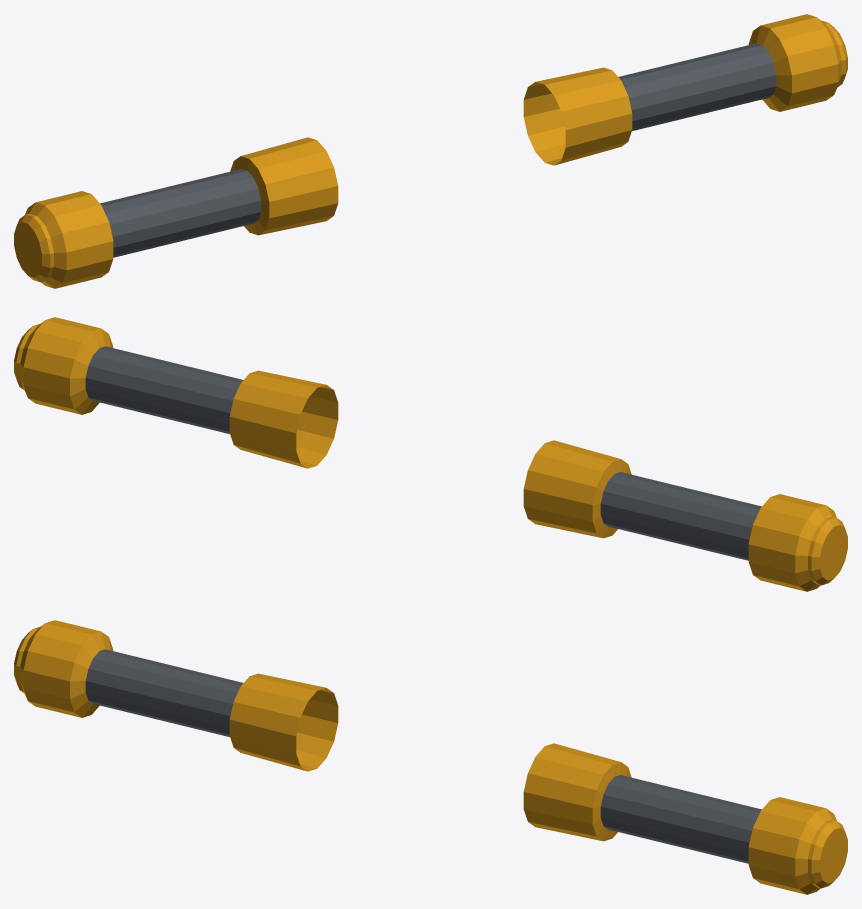
File: Personal_Vehicle_03_Footrest_Yellow.fbx
3 renders of one model, top to bottom at view 1: azimuth 30°, elevation 25°; view 2: azimuth 150°, elevation 25°; view 3: azimuth 330°, elevation 25°, orthographic.
Parts seen in each view (by area): view 1: Personal_Vehicle_03_Footrest_Yellow; view 2: Personal_Vehicle_03_Footrest_Yellow; view 3: Personal_Vehicle_03_Footrest_Yellow.
Boxes of the visible parts, box(x1,y1,x2,y2) form: Personal_Vehicle_03_Footrest_Yellow: box(14, 14, 847, 288); Personal_Vehicle_03_Footrest_Yellow: box(14, 317, 847, 591); Personal_Vehicle_03_Footrest_Yellow: box(14, 620, 847, 894).
Size of the model in its own units: 90.39 by 8.62 by 8.4.
Materials: 1 (1 with a texture image).
